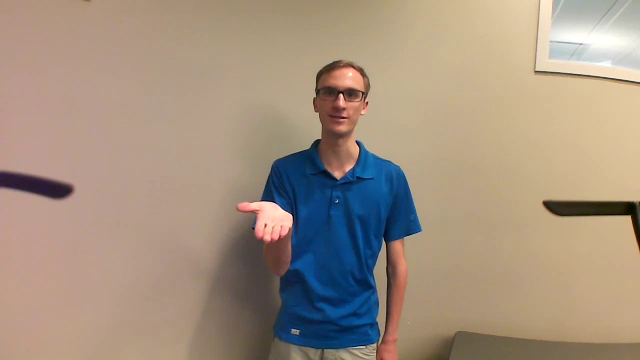land: (221, 188, 306, 249)
